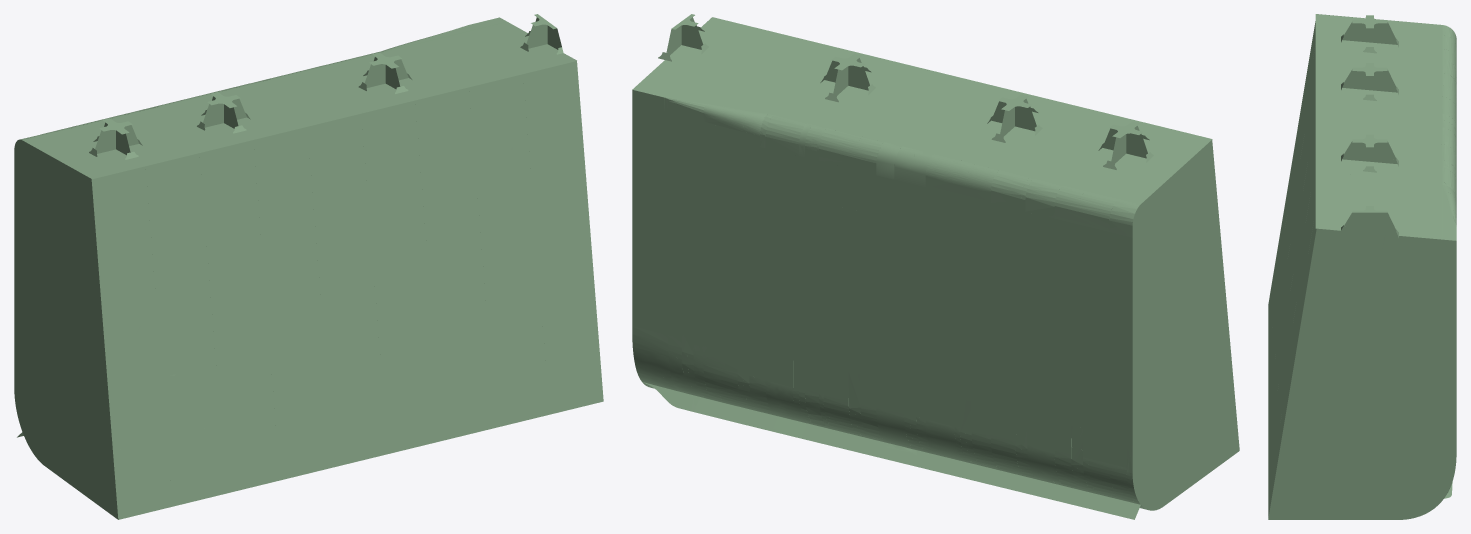
The model's file is NO_2_WING_WATER_BLT_TK_PS.glb.
3 renders of one model, left to right at view 1: azimuth 30°, elevation 25°; view 2: azimuth 150°, elevation 25°; view 3: azimuth 270°, elevation 25°, orthographic. The views are drawn at different scales.
Parts seen in each view (by area): view 1: PL_LBHDxNo2CenterTankP_026003-19.5_NVA36_1993, PL_LBHDxNo2CenterTankP_013005-19.5_NVA36_1993, PL_LBHDxNo2CenterTankP_021002-17.5_NVA32_1993, PL_LBHDxNo2CenterTankP_020002-17.5_NVA36_1993, PL_LBHDxNo2CenterTankP_014005-17.5_NVA32_1993, PL_LBHDxNo2CenterTankP_013003-19.5_NVA36_1993, PL_LBHDxNo2CenterTankP_022003-17_NVA32_1993, PL_LBHDxNo2CenterTankP_017003-15_NVA32_1993, PL_LBHDxNo2CenterTankP_015009-17_NVA32_1993, PL_LBHDxNo2CenterTankP_026002-19.5_NVA36_1993, PL_LBHDxNo2CenterTankP_014003-17.5_NVA32_1993, PL_LBHDxNo2CenterTankP_013004-19.5_NVA36_1993 (+127 smaller); view 2: PL_OuterShellxNo2SideTankP_117003-19_NVA32_1993, PL_OuterShellxNo2SideTankP_150002-18.5_NVA32_1993, PL_OuterShellxNo2SideTankP_137002-20_NVD32_1993, PL_OuterShellxNo2SideTankP_117002-19_NVA32_1993, PL_OuterShellxNo2SideTankP_118003-19_NVA32_1993, PL_OuterShellxNo2SideTankP_138002-19.5_NVA36_1993, PL_OuterShellxNo2SideTankP_118002-19_NVA32_1993, PL_OuterShellxNo2SideTankP_136002-20_NVD32_1993, PL_OuterShellxNo2SideTankP_132004-19_NVA32_1993, PL_SideTransBHDxBHD81P_002001-19.5_NVA32_1993, PL_SideTransBHDxBHD81P_001001-19.5_NVA32_1993, PL_OuterShellxNo2SideTankP_152004-18.5_NVA32_1993 (+117 smaller); view 3: PL_SideTransBHDxBHD90P_017001-19.5_NVA32_1993, PL_SideTransBHDxBHD90P_018001-18.5_NVA32_1993, PL_SideTransBHDxBHD90P_001001-19.5_NVA32_1993, PL_SideTransBHDxBHD90P_003001-18.5_NVA32_1993, PL_SideTransBHDxBHD90P_007001-17_NVA32_1993, PL_SideTransBHDxBHD90P_023002-13.5_NVA_1993, PL_SideTransBHDxBHD90P_024001-13.5_NVA_1993, PL_SideTransBHDxBHD90P_019001-17_NVA32_1993, PL_SideTransBHDxBHD90P_021001-14.5_NVA32_1993, PL_SideTransBHDxBHD90P_012001-14.5_NVA32_1993, PL_SideTransBHDxBHD90P_012002-14.5_NVA32_1993, PL_SideTransBHDxBHD90P_007002-17_NVA32_1993 (+75 smaller).
Boxes of the visible parts, box(x1,y1,x2,y2) form: PL_LBHDxNo2CenterTankP_026003-19.5_NVA36_1993: box(190, 443, 255, 501); PL_LBHDxNo2CenterTankP_013005-19.5_NVA36_1993: box(471, 375, 534, 432); PL_LBHDxNo2CenterTankP_021002-17.5_NVA32_1993: box(187, 403, 252, 458); PL_LBHDxNo2CenterTankP_020002-17.5_NVA36_1993: box(229, 130, 295, 184); PL_LBHDxNo2CenterTankP_014005-17.5_NVA32_1993: box(468, 335, 531, 389); PL_LBHDxNo2CenterTankP_013003-19.5_NVA36_1993: box(363, 403, 422, 459); PL_LBHDxNo2CenterTankP_022003-17_NVA32_1993: box(184, 356, 248, 409); PL_LBHDxNo2CenterTankP_017003-15_NVA32_1993: box(350, 231, 408, 286); PL_LBHDxNo2CenterTankP_015009-17_NVA32_1993: box(464, 288, 527, 341); PL_LBHDxNo2CenterTankP_026002-19.5_NVA36_1993: box(137, 458, 193, 514); PL_LBHDxNo2CenterTankP_014003-17.5_NVA32_1993: box(360, 362, 418, 416); PL_LBHDxNo2CenterTankP_013004-19.5_NVA36_1993: box(419, 390, 474, 445); PL_OuterShellxNo2SideTankP_117003-19_NVA32_1993: box(991, 287, 1054, 344); PL_OuterShellxNo2SideTankP_150002-18.5_NVA32_1993: box(703, 217, 765, 273); PL_OuterShellxNo2SideTankP_137002-20_NVD32_1993: box(925, 154, 998, 202); PL_OuterShellxNo2SideTankP_117002-19_NVA32_1993: box(1054, 302, 1109, 357); PL_OuterShellxNo2SideTankP_118003-19_NVA32_1993: box(823, 246, 876, 300); PL_OuterShellxNo2SideTankP_138002-19.5_NVA36_1993: box(819, 128, 883, 174); PL_OuterShellxNo2SideTankP_118002-19_NVA32_1993: box(876, 259, 925, 313); PL_OuterShellxNo2SideTankP_136002-20_NVD32_1993: box(1054, 185, 1117, 231); PL_OuterShellxNo2SideTankP_132004-19_NVA32_1993: box(925, 198, 990, 243); PL_SideTransBHDxBHD81P_002001-19.5_NVA32_1993: box(1133, 448, 1186, 510); PL_SideTransBHDxBHD81P_001001-19.5_NVA32_1993: box(1193, 411, 1239, 484); PL_OuterShellxNo2SideTankP_152004-18.5_NVA32_1993: box(703, 268, 765, 316); PL_SideTransBHDxBHD90P_017001-19.5_NVA32_1993: box(1362, 480, 1452, 519); PL_SideTransBHDxBHD90P_018001-18.5_NVA32_1993: box(1362, 448, 1456, 479); PL_SideTransBHDxBHD90P_001001-19.5_NVA32_1993: box(1268, 483, 1349, 519); PL_SideTransBHDxBHD90P_003001-18.5_NVA32_1993: box(1274, 448, 1349, 482); PL_SideTransBHDxBHD90P_007001-17_NVA32_1993: box(1281, 408, 1349, 441); PL_SideTransBHDxBHD90P_023002-13.5_NVA_1993: box(1379, 273, 1456, 299); PL_SideTransBHDxBHD90P_024001-13.5_NVA_1993: box(1379, 234, 1456, 263); PL_SideTransBHDxBHD90P_019001-17_NVA32_1993: box(1399, 408, 1456, 441); PL_SideTransBHDxBHD90P_021001-14.5_NVA32_1993: box(1399, 338, 1456, 371); PL_SideTransBHDxBHD90P_012001-14.5_NVA32_1993: box(1293, 338, 1349, 371); PL_SideTransBHDxBHD90P_012002-14.5_NVA32_1993: box(1349, 338, 1398, 371); PL_SideTransBHDxBHD90P_007002-17_NVA32_1993: box(1349, 408, 1398, 441).
Size of the model in its own units: 47.81 by 31.51 by 17.51.
